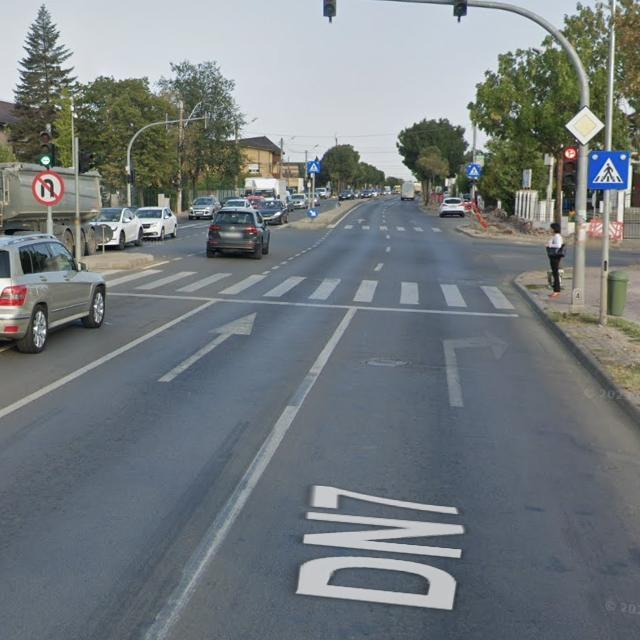info_crosswalk: (588, 149, 631, 190), (467, 164, 482, 178), (308, 161, 321, 174)
